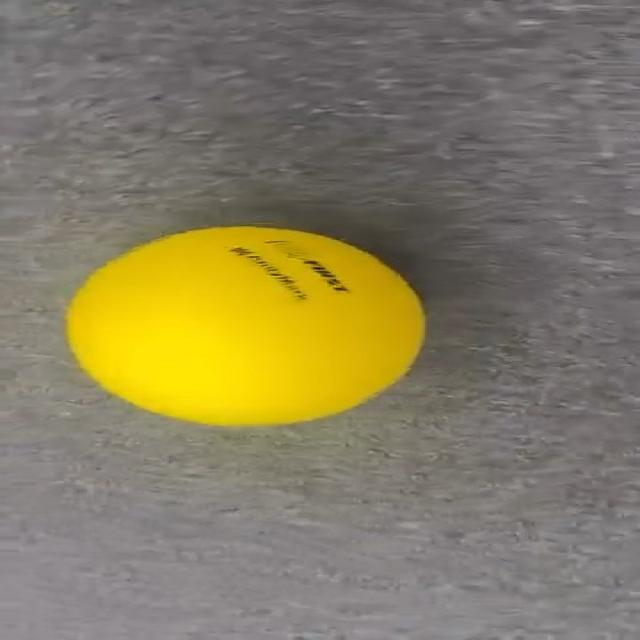Fuels: (69, 227, 420, 424)
